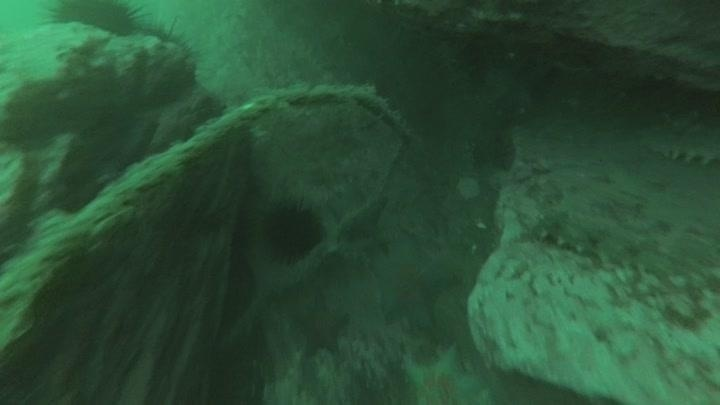echinus: (258, 196, 328, 265), (46, 1, 146, 39)
holothurian: (526, 208, 670, 274), (634, 119, 720, 169)
starfish: (370, 232, 460, 331), (398, 342, 488, 405), (290, 297, 352, 359)
